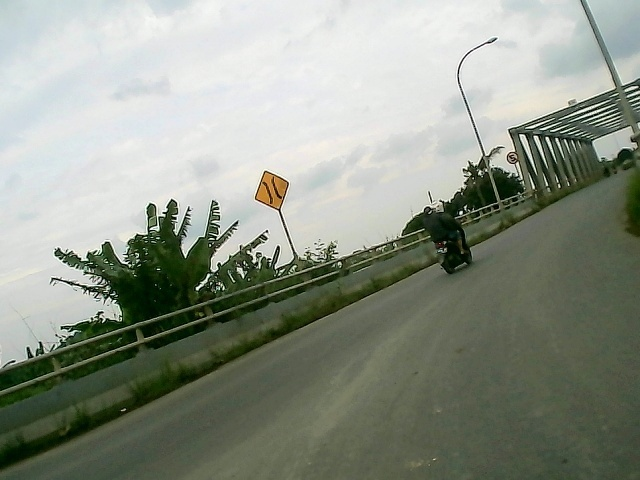Jembatan: (251, 168, 292, 211)
